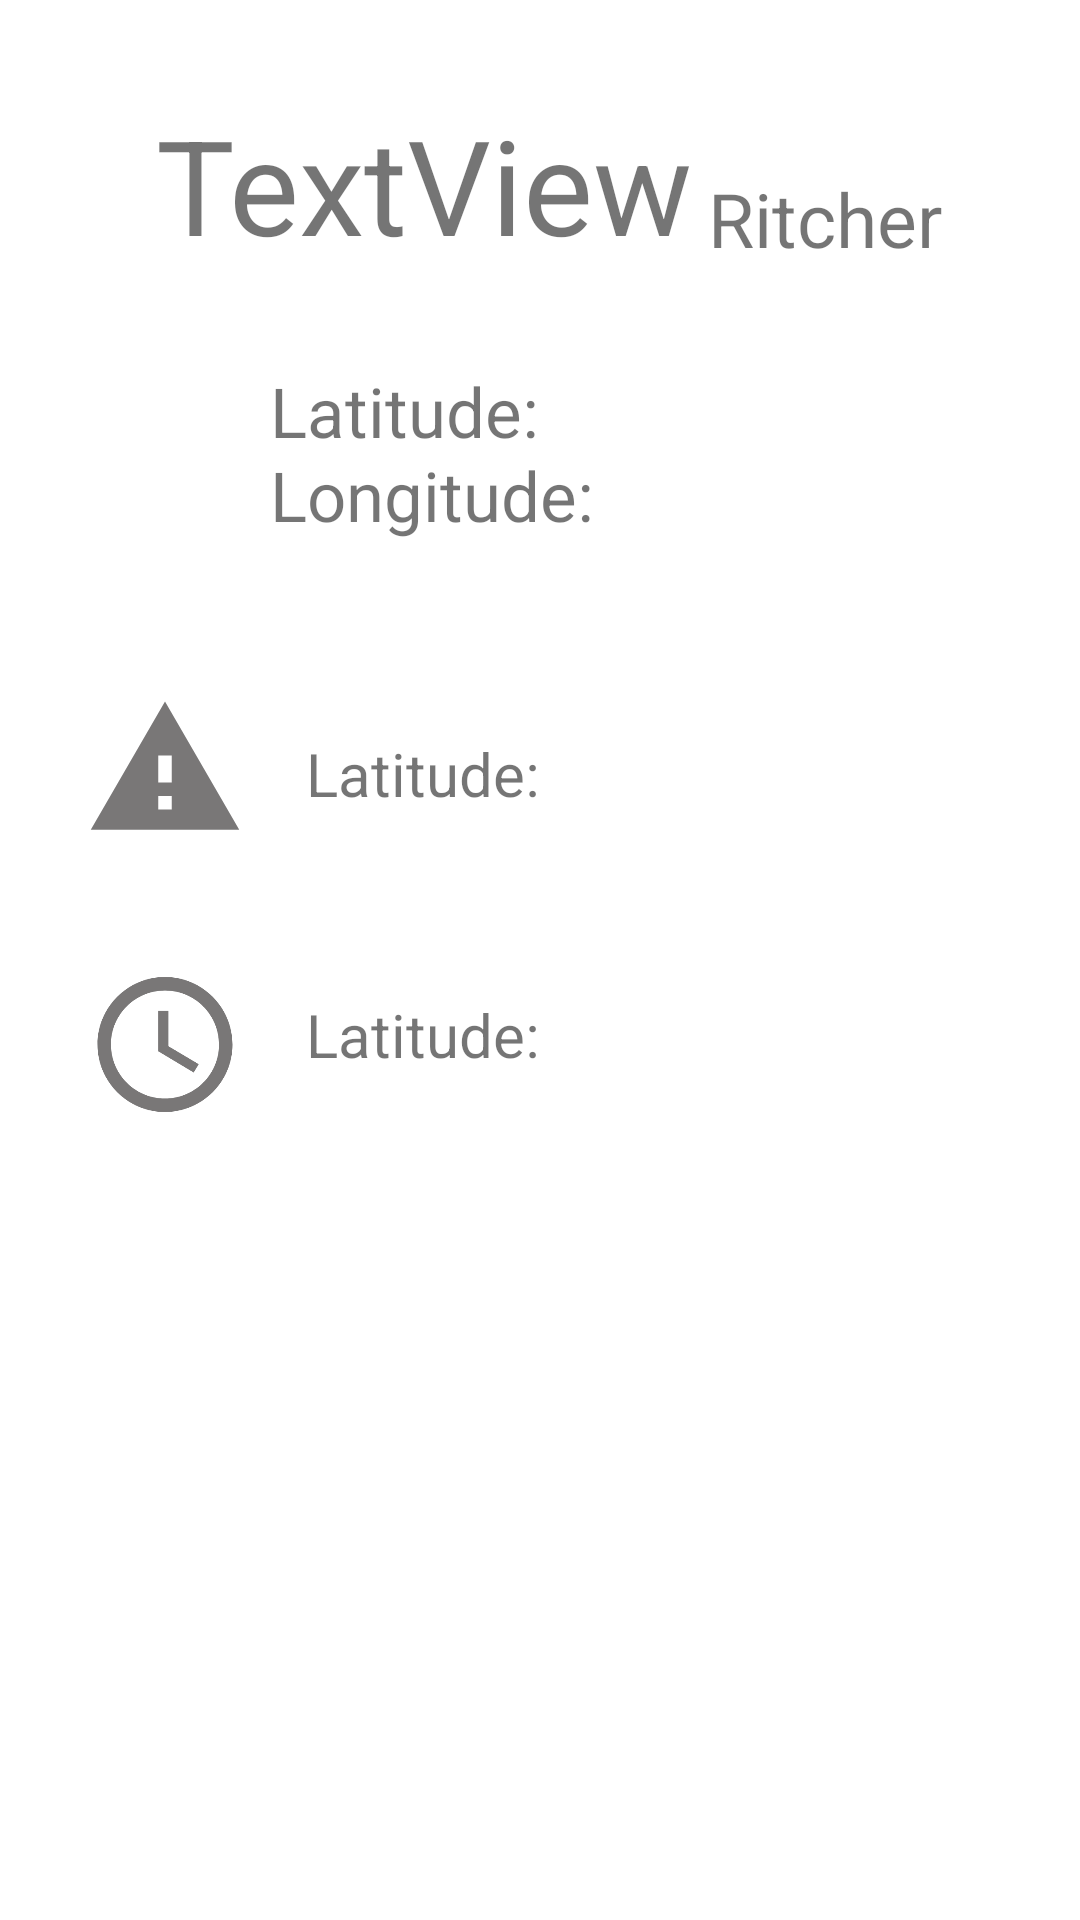

Icon bounding boxes for this 1080px x 1920px phone screenshot, format (x1, y1, x2, y2):
reloj: (97, 977, 233, 1112)
warning: (91, 702, 239, 830)
